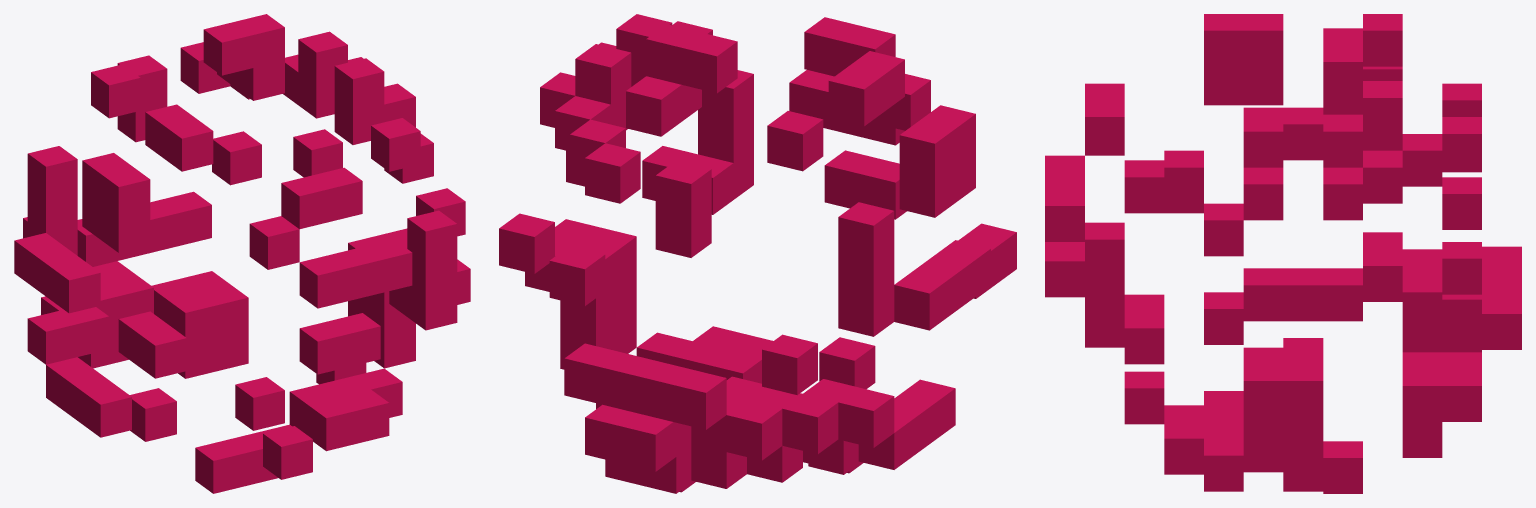
Rendered from luz-12c.obj.
3 views of the same model, side by side, from view 1: azimuth 30°, elevation 25°; view 2: azimuth 150°, elevation 25°; view 3: azimuth 270°, elevation 25° (orthographic). The views are drawn at different scales.
Bounding box in the file's own units: 1.2 × 1.2 × 1.2.
Materials: 1 (1 with a texture image).
